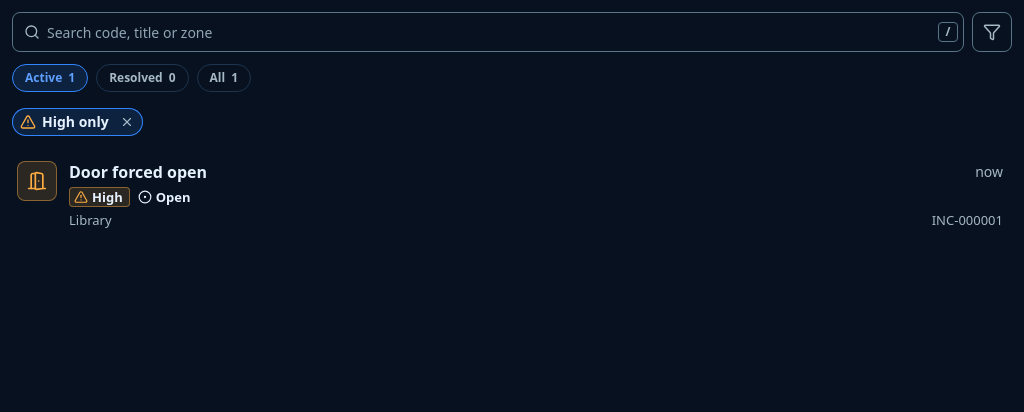
it: IncidentFeed › category filter › shows both chips when a severity is on too, and clears each on its own
What coordinates should you click on to do the following:
click the button named "Filter by category"
I would click on:
 (992, 32)
Its box is [972,12,1012,52].
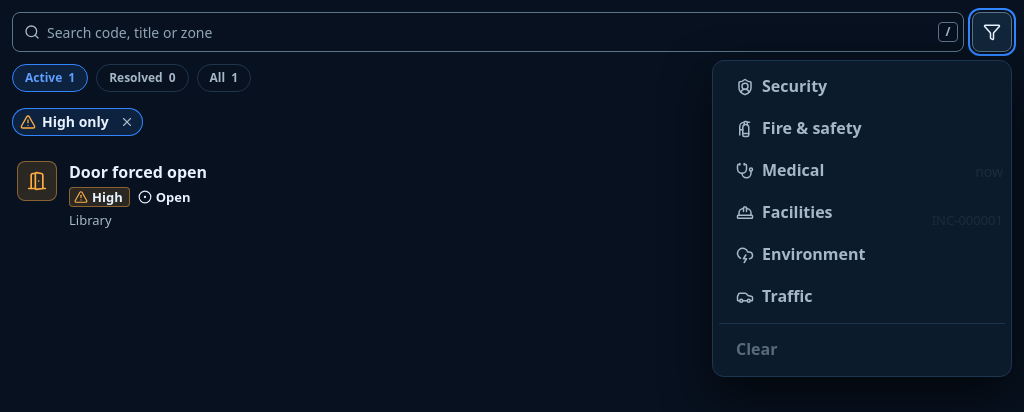
What coordinates should you click on to do the following:
click the button "Security"
I would click on:
 (795, 86)
Its box is [719,67,1005,107].
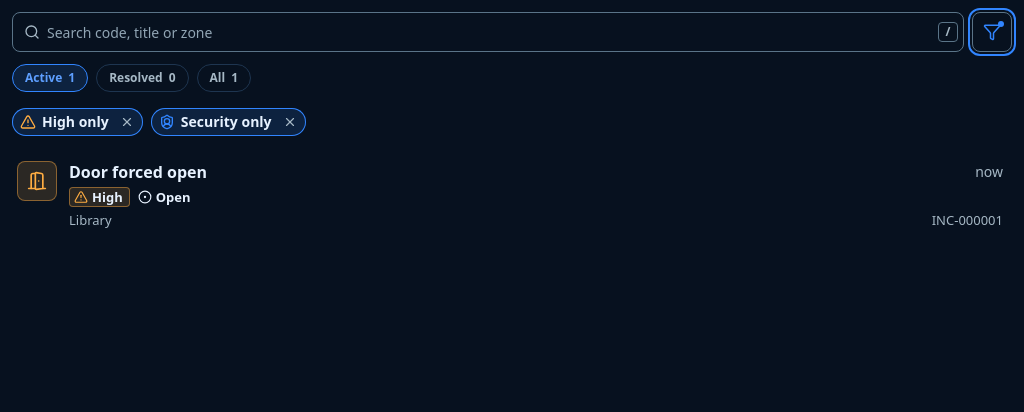
Check: the text "High only" is shown, box [12,108,143,136]
Check: the text "Security only" is shown, box [151,108,306,136]
What coordinates should you click on to do the following:
click the button named "Clear severity filter"
I would click on:
 (127, 122)
Its box is [115,110,139,134].
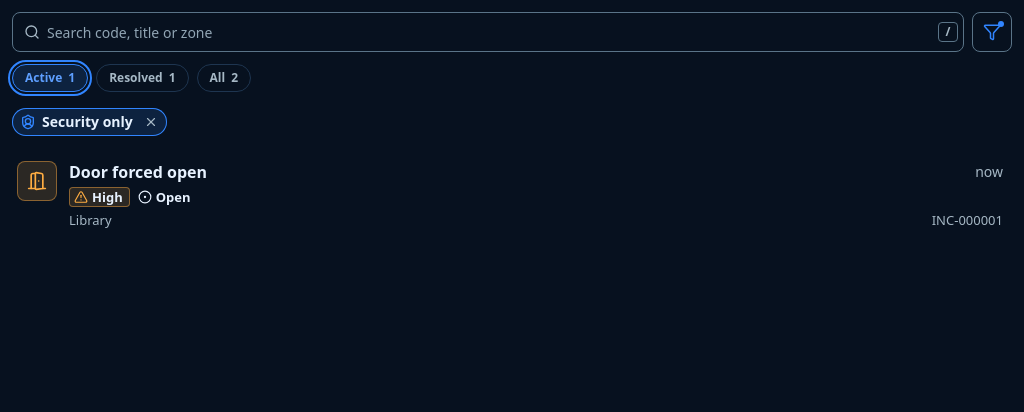
Check: the text "Security only" is shown, box [12,108,167,136]
Check: the text "High only" is gone
